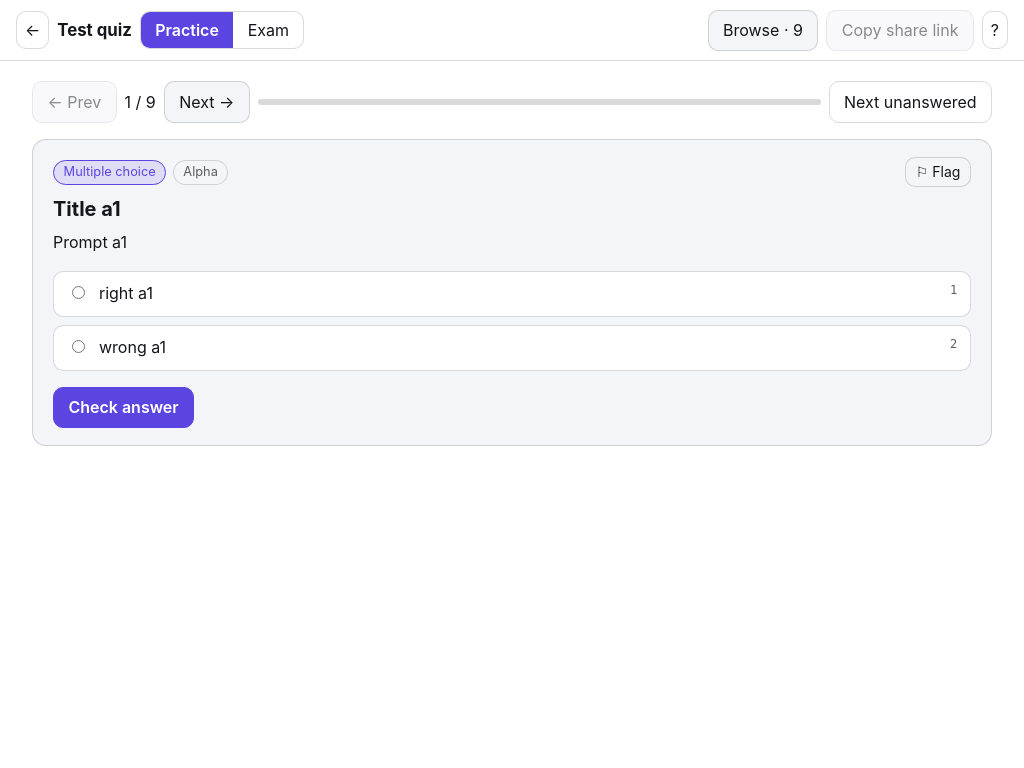
exam mode › builds an exam with topic weights and shows the resulting allocation
Click the tab "Exam" at [268, 30], box 233,12 -> 303,48
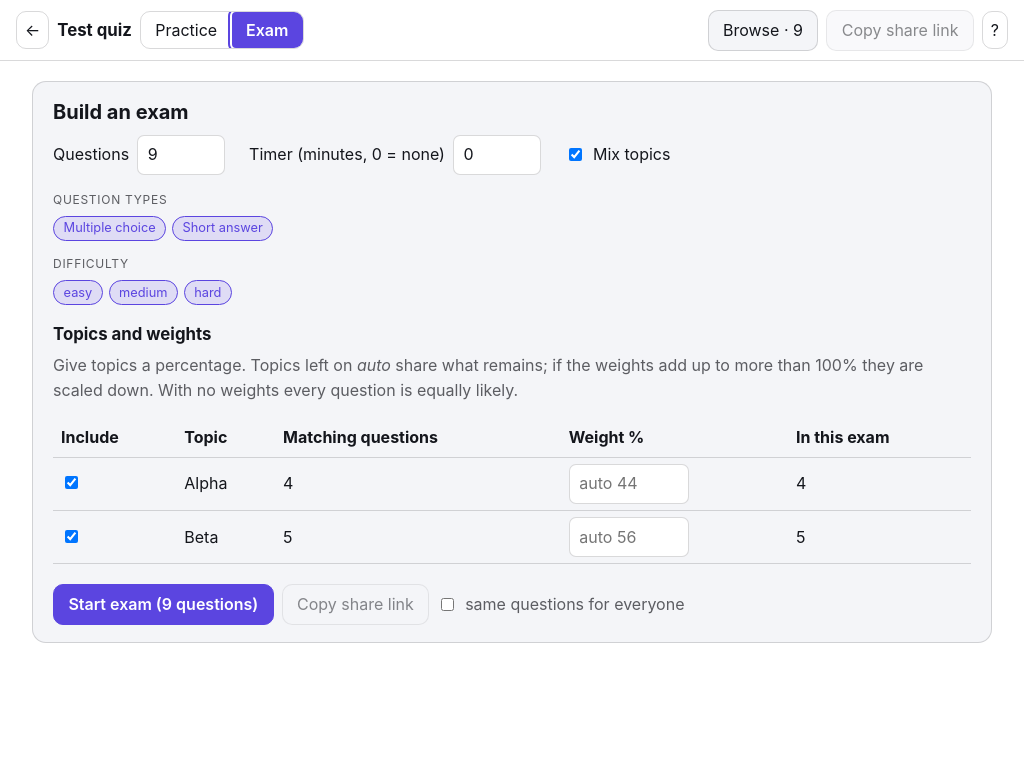
Replace the text in the number field named "Number of questions" with "4" at [181, 155], box 137,135 -> 225,175
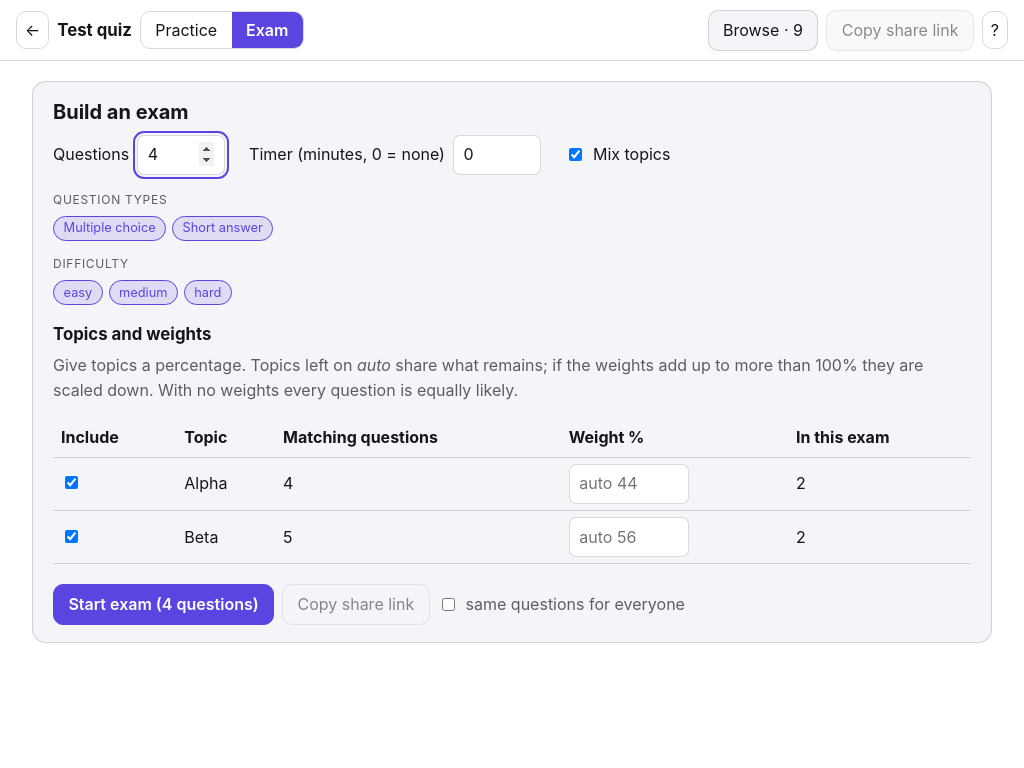
Type "75" into the number field named "Weight for Alpha" at [629, 484], box 569,464 -> 689,504
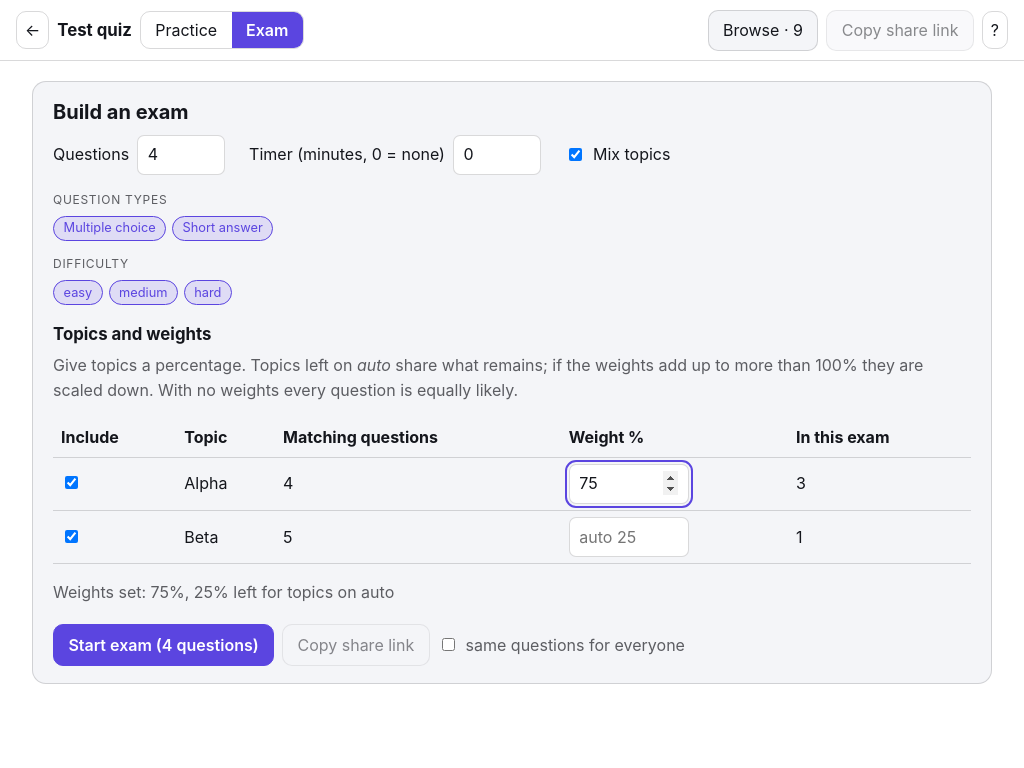
Expected: the text "Weights set: 75%, 25% left for topics on auto" is shown, 53,582 -> 394,602
Click the checkbox named "Include Beta" at [72, 536], box 65,530 -> 78,543
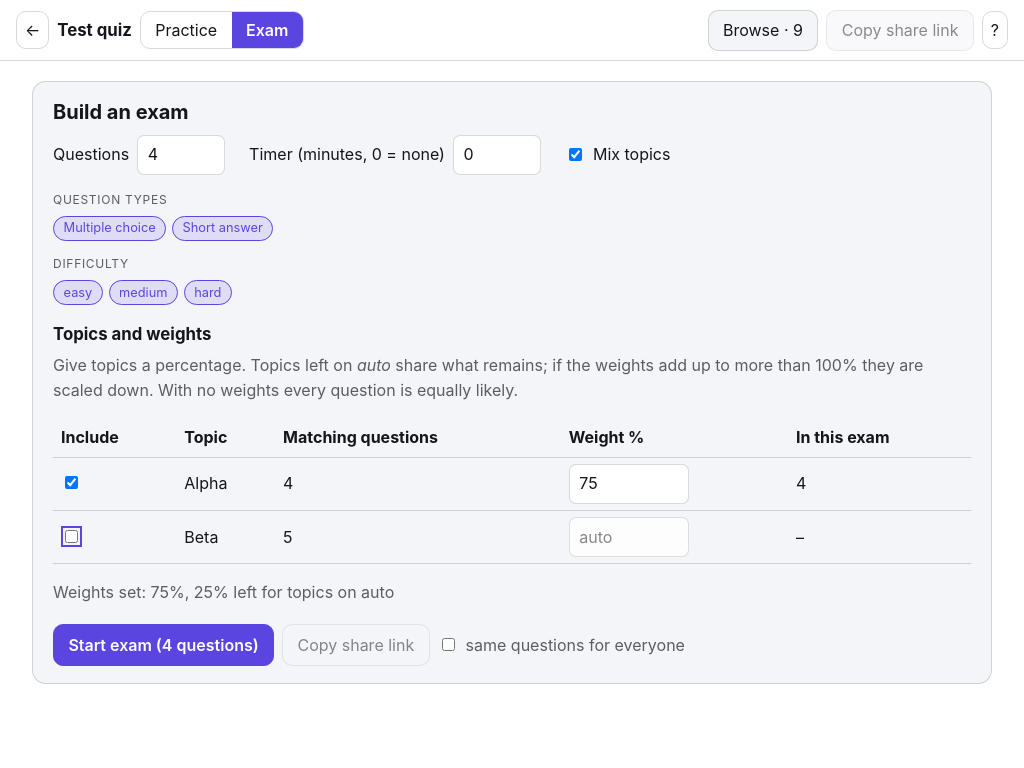
Expected: the button "Start exam (4 questions)" is shown, 53,624 -> 274,666
Expected: the number field named "Weight for Beta" is disabled, 569,517 -> 689,557
